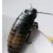cockroach: (7, 6, 38, 53)
